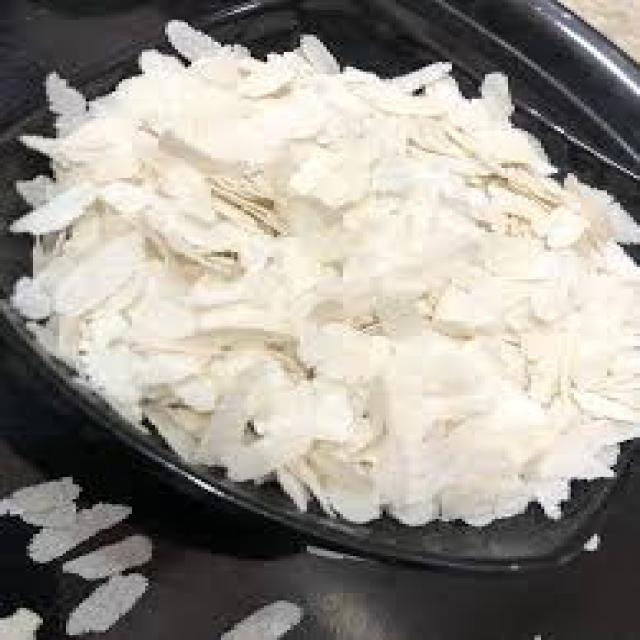POHA: (13, 30, 637, 527)
